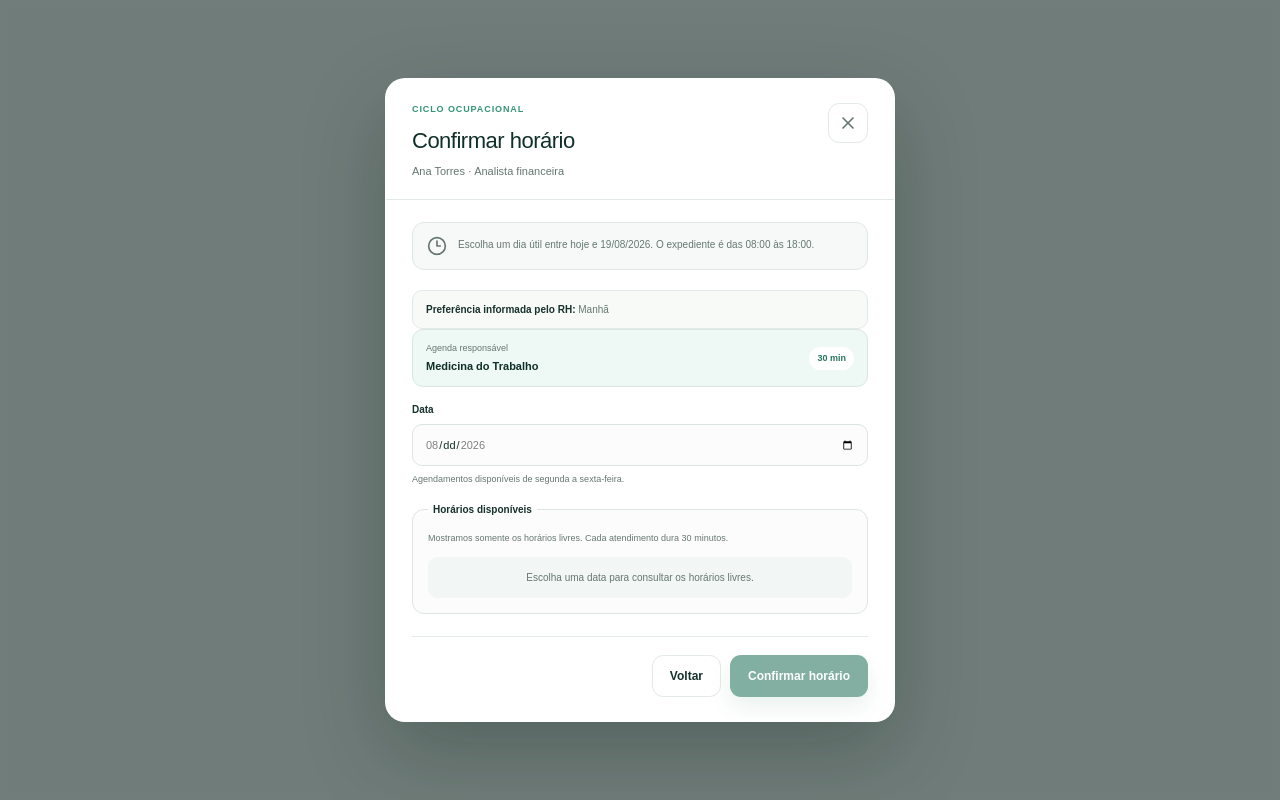
Test: Modal de agendamento da clínica › oculta um horário já ocupado na agenda de Medicina do Trabalho
Type "2026-08-10" into the date field labelled "Data" at (640, 446), box [412,424,868,466]
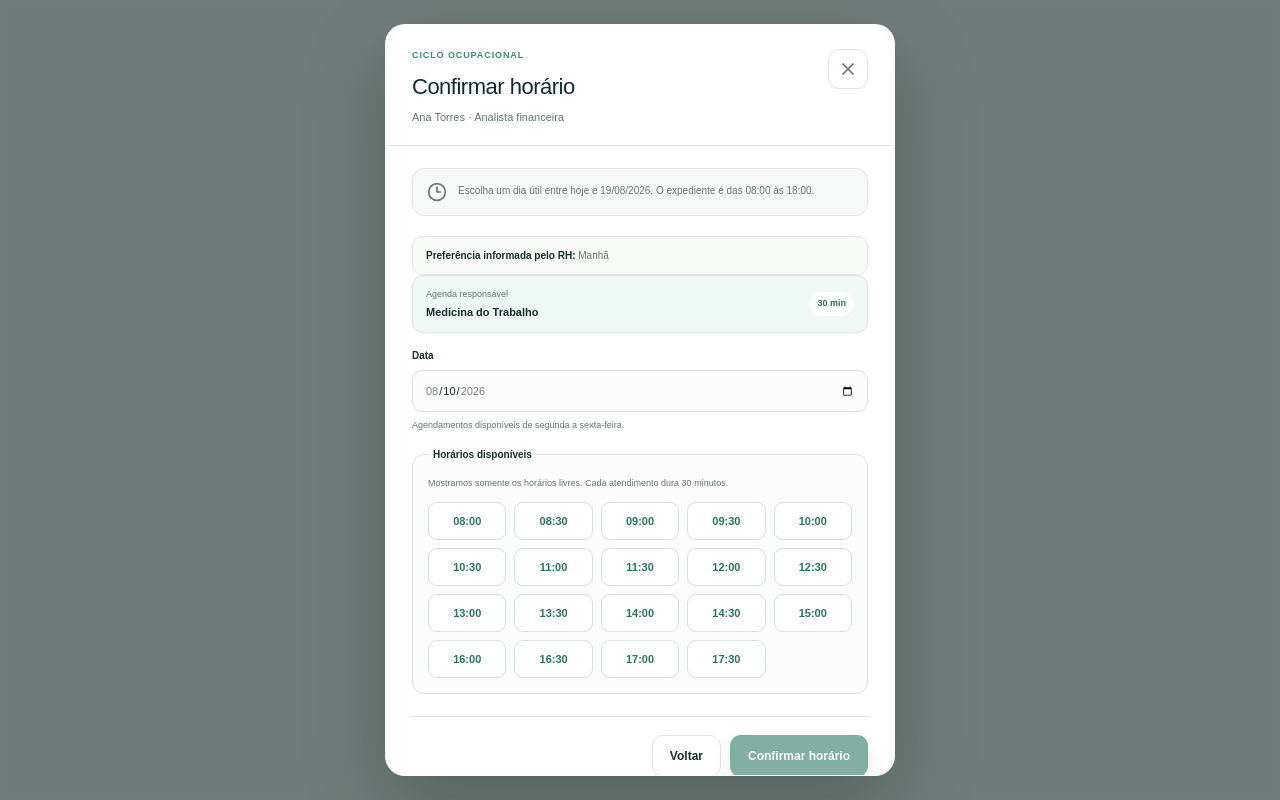
expect the button "16:00" is shown: met, box [428,640,506,678]
